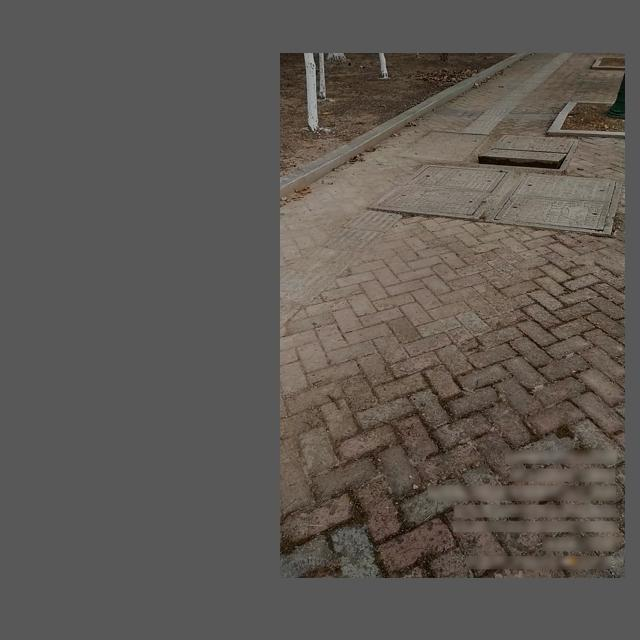good: (368, 163, 625, 236)
uncovered: (478, 133, 580, 169)
